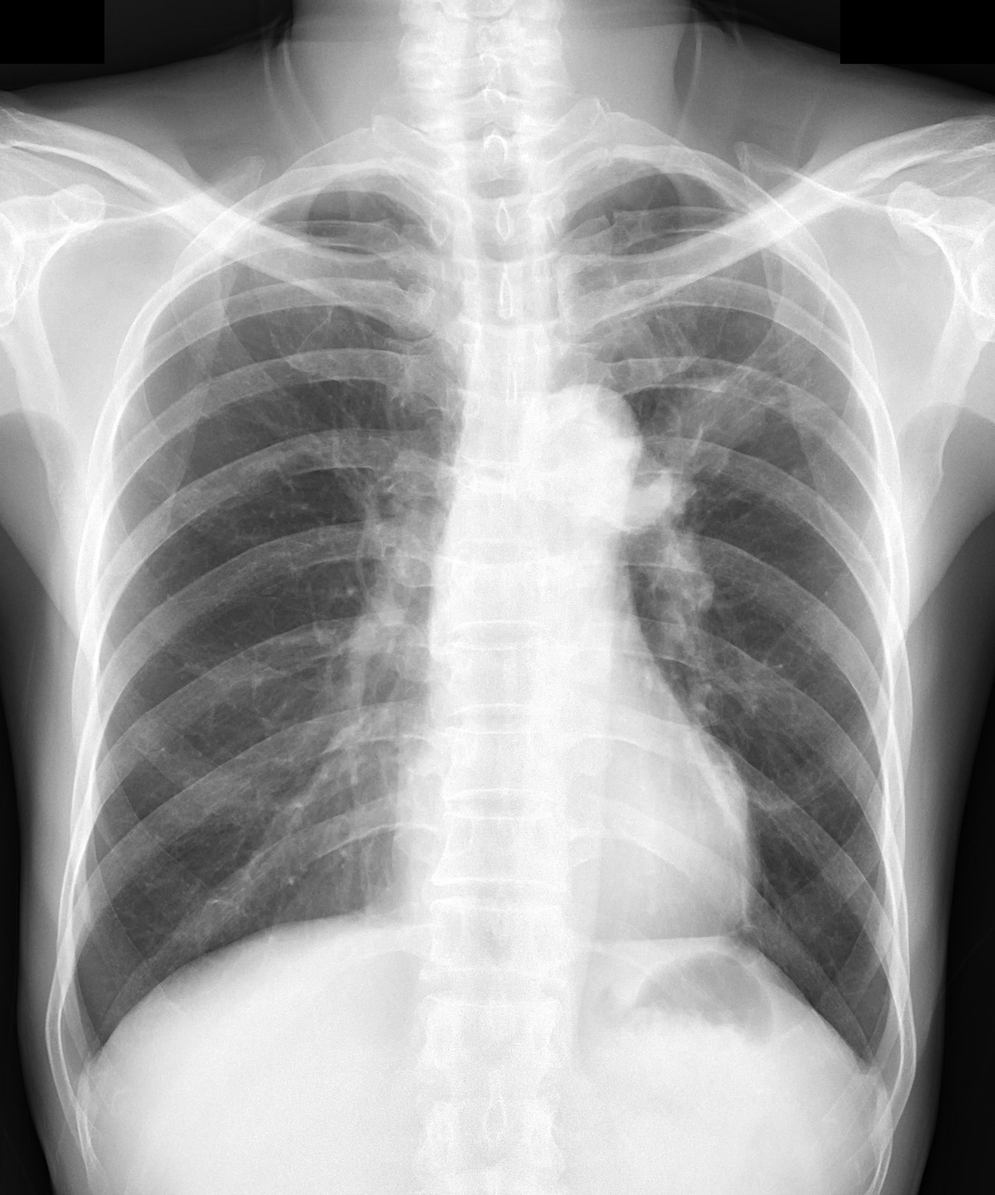Pleural thickening: (61, 1021, 104, 1096), (851, 1040, 895, 1113)
Pulmonary fibrosis: (650, 299, 842, 463)
